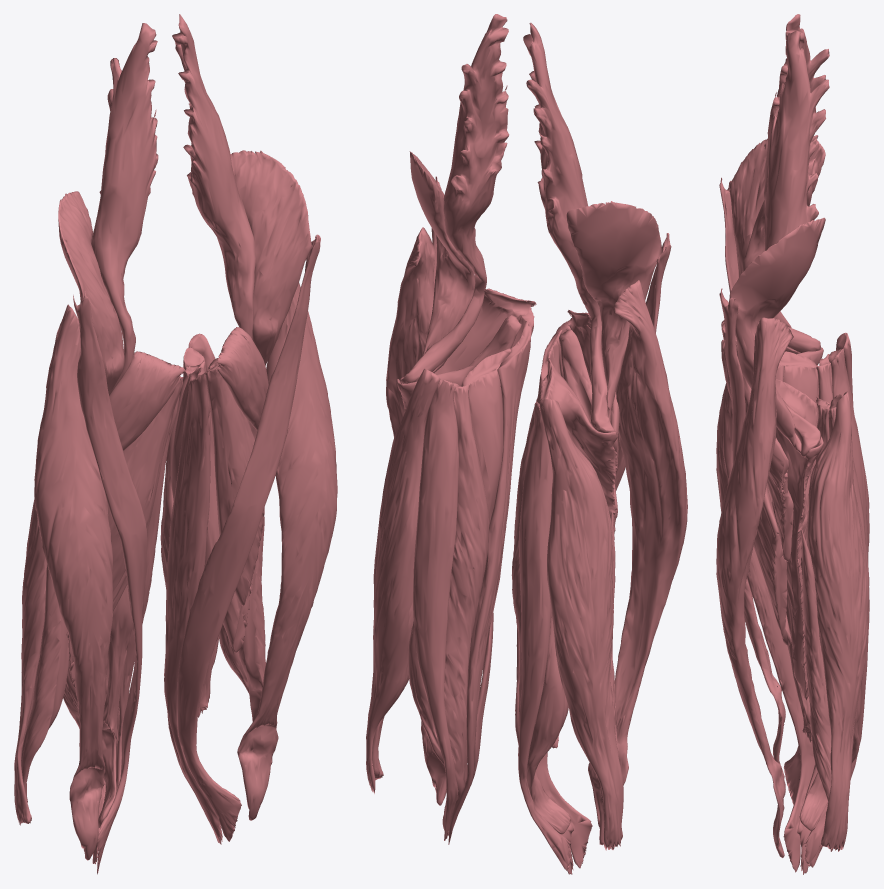
Rendered from z-anatomy-1.4.0-hip-addon.glb.
The picture shows the model from 3 angles, left to right: view 1: azimuth 30°, elevation 25°; view 2: azimuth 150°, elevation 25°; view 3: azimuth 270°, elevation 25°; orthographic projection. The views are drawn at different scales.
Visible parts, largest first — view 1: rectus-femoris-muscles-rectus-femoris-muscle-right__Rectus f, rectus-femoris-muscles-rectus-femoris-muscle-left__Rectus fe, sartorius-muscles-sartorius-muscle-left__Sartorius muscle.l, psoas-major-muscles-psoas-major-right__Psoas major.r, sartorius-muscles-sartorius-muscle-right__Sartorius muscle.r, gracilis-muscles-gracilis-muscle-left__Gracilis muscle.l, iliacus-muscles-iliacus-muscle-left__Iliacus muscle.l, psoas-major-muscles-psoas-major-left__Psoas major.l, iliacus-muscles-iliacus-muscle-right__Iliacus muscle.r, adductor-longus-muscles-adductor-longus-left__Adductor longu, biceps-femoris-muscles-long-head-of-biceps-femoris-right__Lo, biceps-femoris-muscles-short-head-of-biceps-femoris-right__S (+10 smaller); view 2: biceps-femoris-muscles-long-head-of-biceps-femoris-right__Lo, rectus-femoris-muscles-rectus-femoris-muscle-right__Rectus f, biceps-femoris-muscles-long-head-of-biceps-femoris-left__Lon, semitendinosus-muscles-semitendinosus-muscle-left__Semitendi, psoas-major-muscles-psoas-major-left__Psoas major.l, semimembranosus-muscles-semimembranosus-muscle-left__Semimem, semitendinosus-muscles-semitendinosus-muscle-right__Semitend, iliacus-muscles-iliacus-muscle-right__Iliacus muscle.r, psoas-major-muscles-psoas-major-right__Psoas major.r, gracilis-muscles-gracilis-muscle-left__Gracilis muscle.l, rectus-femoris-muscles-rectus-femoris-muscle-left__Rectus fe, semimembranosus-muscles-semimembranosus-muscle-right__Semime (+10 smaller); view 3: biceps-femoris-muscles-long-head-of-biceps-femoris-left__Lon, rectus-femoris-muscles-rectus-femoris-muscle-left__Rectus fe, psoas-major-muscles-psoas-major-left__Psoas major.l, iliacus-muscles-iliacus-muscle-left__Iliacus muscle.l, sartorius-muscles-sartorius-muscle-left__Sartorius muscle.l, adductor-magnus-muscles-adductor-magnus-left__Adductor magnu, biceps-femoris-muscles-short-head-of-biceps-femoris-left__Sh, rectus-femoris-muscles-rectus-femoris-muscle-right__Rectus f, iliacus-muscles-iliacus-muscle-right__Iliacus muscle.r, psoas-major-muscles-psoas-major-right__Psoas major.r, adductor-longus-muscles-adductor-longus-left__Adductor longu, semimembranosus-muscles-semimembranosus-muscle-left__Semimem (+9 smaller).
Boxes of the visible parts, x1=… form: rectus-femoris-muscles-rectus-femoris-muscle-right__Rectus f: x1=34, y1=304, x2=112, y2=860; rectus-femoris-muscles-rectus-femoris-muscle-left__Rectus fe: x1=237, y1=283, x2=337, y2=820; sartorius-muscles-sartorius-muscle-left__Sartorius muscle.l: x1=177, y1=234, x2=320, y2=841; psoas-major-muscles-psoas-major-right__Psoas major.r: x1=91, y1=23, x2=158, y2=393; sartorius-muscles-sartorius-muscle-right__Sartorius muscle.r: x1=73, y1=291, x2=147, y2=873; gracilis-muscles-gracilis-muscle-left__Gracilis muscle.l: x1=164, y1=368, x2=222, y2=844; iliacus-muscles-iliacus-muscle-left__Iliacus muscle.l: x1=230, y1=150, x2=311, y2=365; psoas-major-muscles-psoas-major-left__Psoas major.l: x1=172, y1=14, x2=255, y2=339; iliacus-muscles-iliacus-muscle-right__Iliacus muscle.r: x1=58, y1=191, x2=124, y2=395; adductor-longus-muscles-adductor-longus-left__Adductor longu: x1=205, y1=365, x2=263, y2=605; biceps-femoris-muscles-long-head-of-biceps-femoris-right__Lo: x1=14, y1=498, x2=46, y2=825; biceps-femoris-muscles-short-head-of-biceps-femoris-right__S: x1=21, y1=564, x2=69, y2=802; biceps-femoris-muscles-long-head-of-biceps-femoris-right__Lo: x1=539, y1=399, x2=623, y2=850; rectus-femoris-muscles-rectus-femoris-muscle-right__Rectus f: x1=588, y1=280, x2=687, y2=845; biceps-femoris-muscles-long-head-of-biceps-femoris-left__Lon: x1=366, y1=368, x2=440, y2=793; semitendinosus-muscles-semitendinosus-muscle-left__Semitendi: x1=413, y1=379, x2=458, y2=840; psoas-major-muscles-psoas-major-left__Psoas major.l: x1=400, y1=14, x2=509, y2=383; semimembranosus-muscles-semimembranosus-muscle-left__Semimem: x1=408, y1=382, x2=489, y2=800; semitendinosus-muscles-semitendinosus-muscle-right__Semitend: x1=518, y1=402, x2=571, y2=870; iliacus-muscles-iliacus-muscle-right__Iliacus muscle.r: x1=566, y1=201, x2=662, y2=422; psoas-major-muscles-psoas-major-right__Psoas major.r: x1=523, y1=22, x2=615, y2=432; gracilis-muscles-gracilis-muscle-left__Gracilis muscle.l: x1=448, y1=321, x2=531, y2=844; rectus-femoris-muscles-rectus-femoris-muscle-left__Rectus fe: x1=386, y1=227, x2=446, y2=805; semimembranosus-muscles-semimembranosus-muscle-right__Semime: x1=511, y1=399, x2=570, y2=834; biceps-femoris-muscles-long-head-of-biceps-femoris-left__Lon: x1=807, y1=391, x2=869, y2=851; rectus-femoris-muscles-rectus-femoris-muscle-left__Rectus fe: x1=716, y1=317, x2=793, y2=857; psoas-major-muscles-psoas-major-left__Psoas major.l: x1=764, y1=30, x2=829, y2=456; iliacus-muscles-iliacus-muscle-left__Iliacus muscle.l: x1=729, y1=217, x2=825, y2=457; sartorius-muscles-sartorius-muscle-left__Sartorius muscle.l: x1=719, y1=288, x2=814, y2=872; adductor-magnus-muscles-adductor-magnus-left__Adductor magnu: x1=771, y1=379, x2=823, y2=743; biceps-femoris-muscles-short-head-of-biceps-femoris-left__Sh: x1=801, y1=529, x2=831, y2=801; rectus-femoris-muscles-rectus-femoris-muscle-right__Rectus f: x1=716, y1=383, x2=785, y2=778; iliacus-muscles-iliacus-muscle-right__Iliacus muscle.r: x1=729, y1=138, x2=825, y2=354; psoas-major-muscles-psoas-major-right__Psoas major.r: x1=742, y1=14, x2=829, y2=352; adductor-longus-muscles-adductor-longus-left__Adductor longu: x1=753, y1=483, x2=791, y2=645; semimembranosus-muscles-semimembranosus-muscle-left__Semimem: x1=799, y1=396, x2=861, y2=830.
Size of the model in its own units: 0.2967 by 0.811 by 0.1368.
